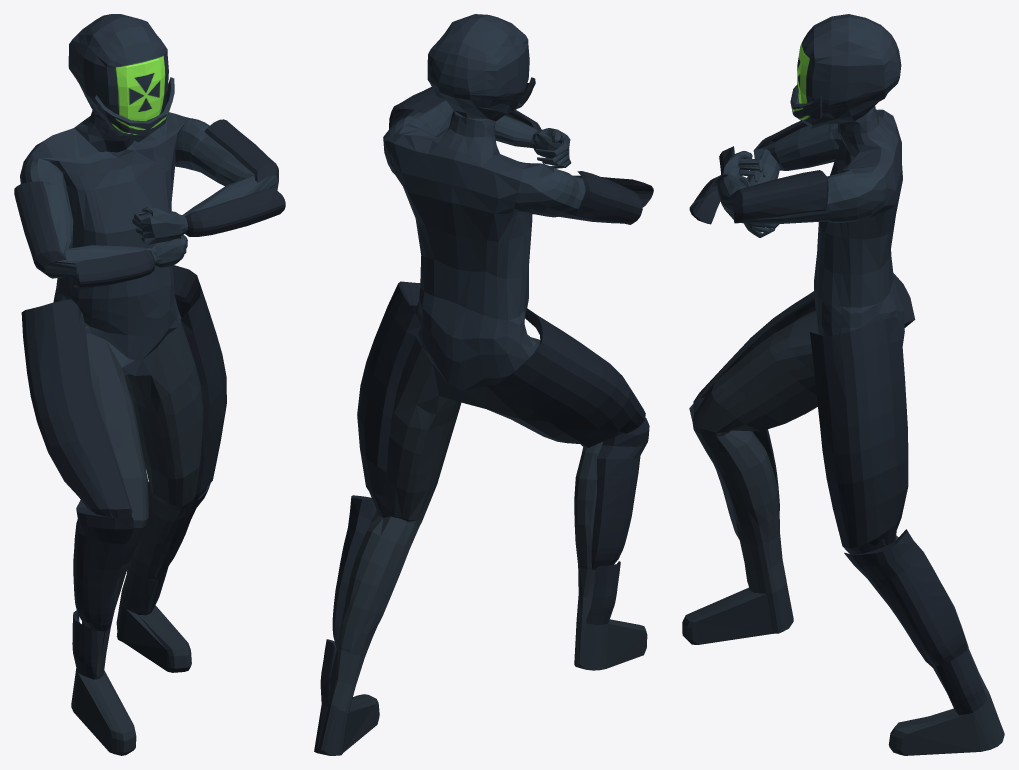
Rendered from Bastion_WF_000021.obj.
3 views of the same model, side by side, from view 1: azimuth 30°, elevation 25°; view 2: azimuth 150°, elevation 25°; view 3: azimuth 270°, elevation 25° (orthographic). The views are drawn at different scales.
Visible parts, largest first — view 1: Cube.002; view 2: Cube.002; view 3: Cube.002.
Part boxes in pixels (x1,y1,x2,y2): Cube.002: (14, 14, 285, 755); Cube.002: (314, 14, 653, 755); Cube.002: (682, 14, 1004, 755).
Size of the model in its own units: 1.32 by 3.72 by 1.57.
